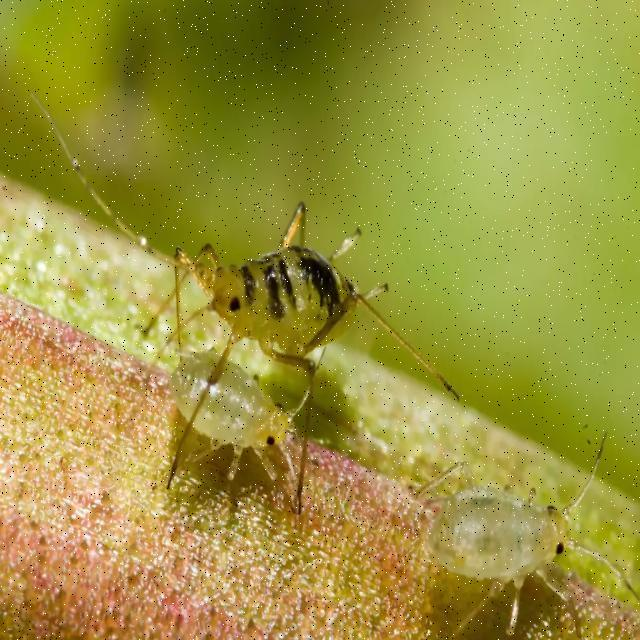Aphids: (151, 139, 430, 394), (114, 309, 318, 521), (406, 453, 632, 625)
